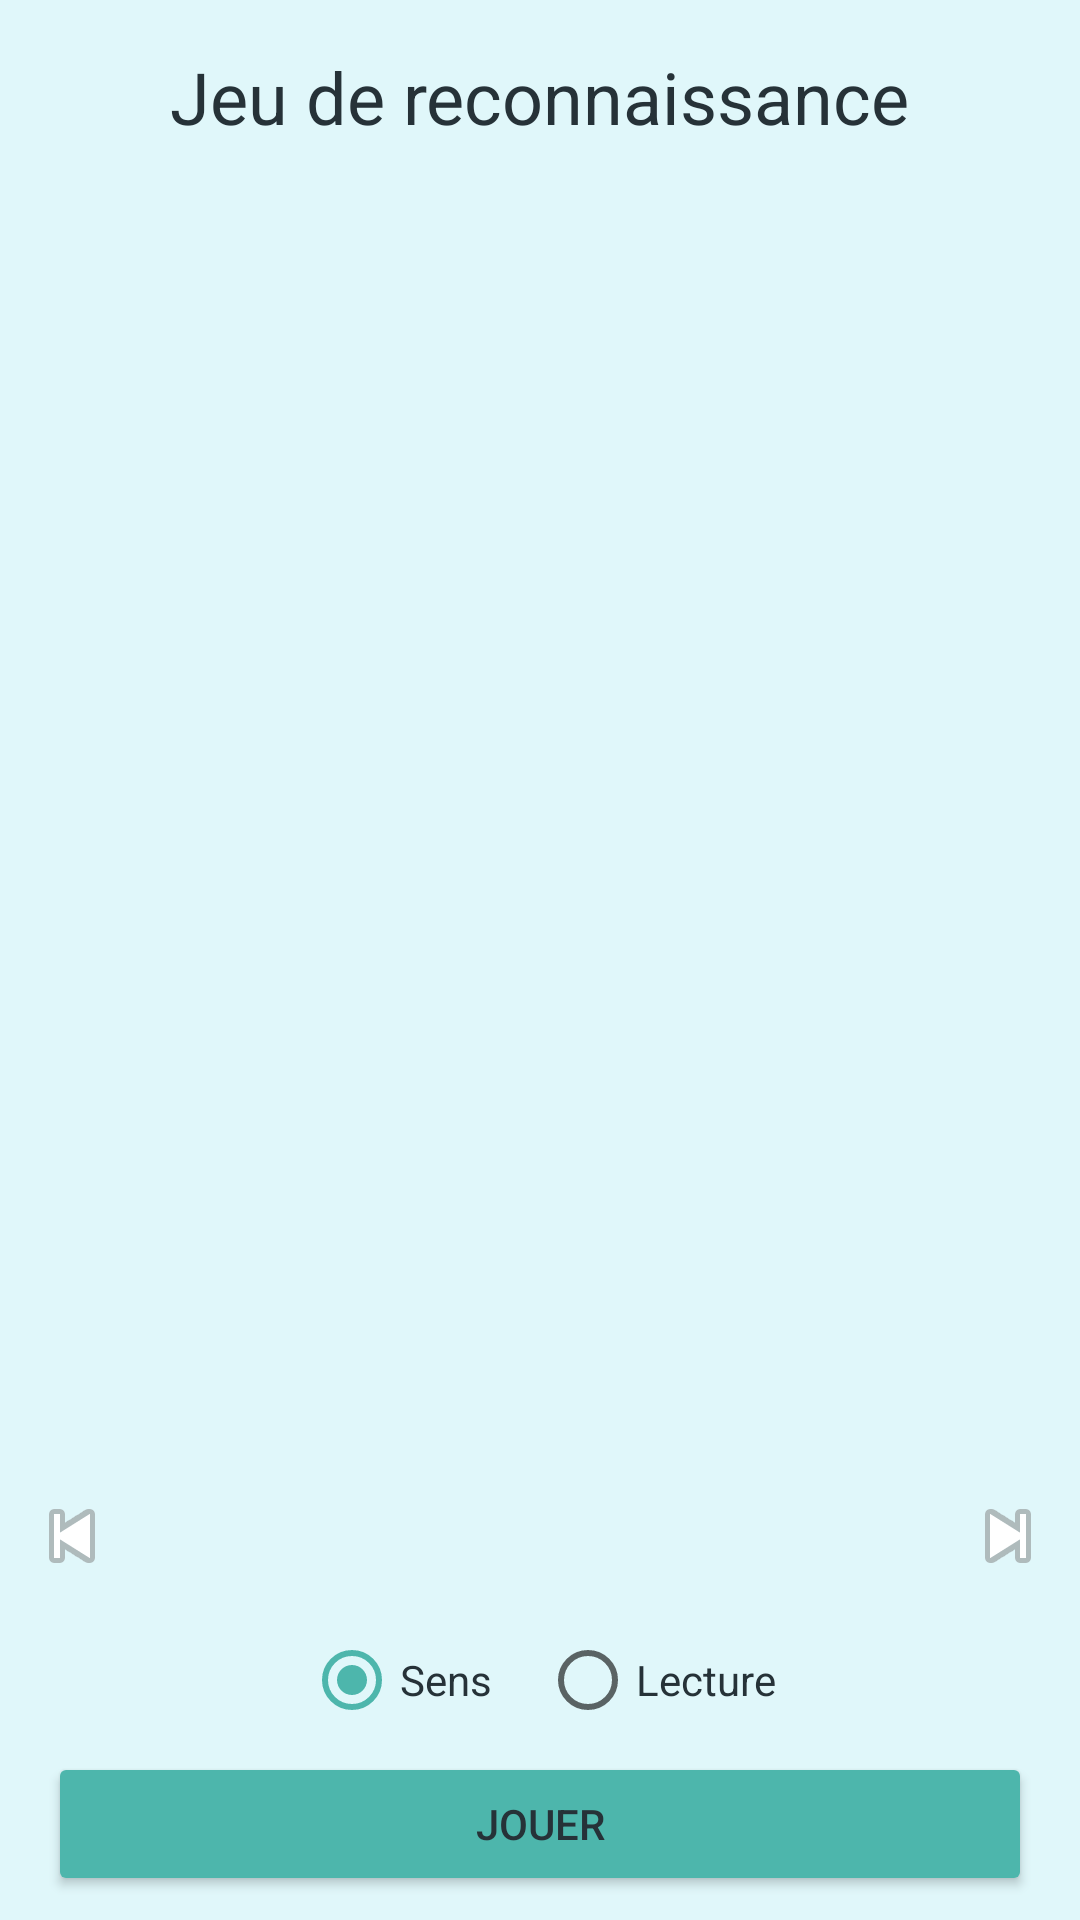

Point at icon controls on the screen. Image size 1080px×1920px, points as (x=x, y=y).
next: (x=1008, y=1536)
previous: (x=72, y=1536)
